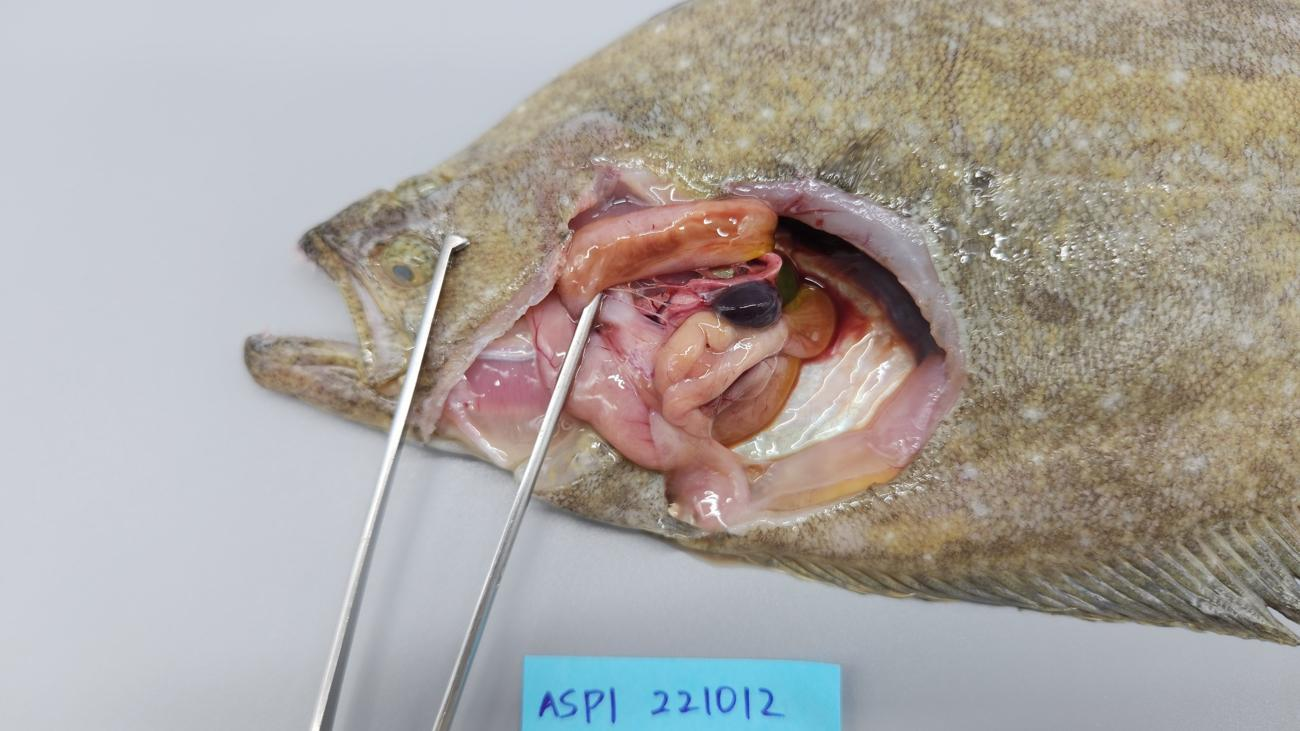SPINH: (610, 224, 687, 281)
SPINI: (710, 352, 802, 446)
